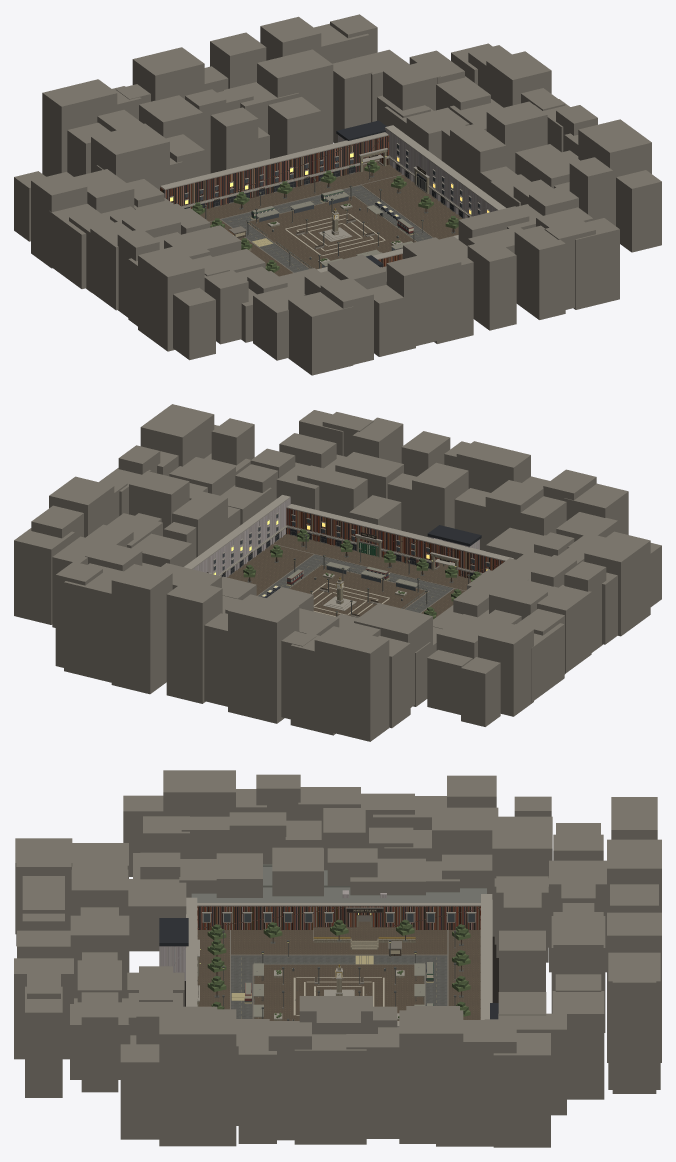
File: station-plaza.glb
3 renders of one model, top to bottom at view 1: azimuth 30°, elevation 25°; view 2: azimuth 150°, elevation 25°; view 3: azimuth 270°, elevation 25°, orthographic. The views are drawn at different scales.
Parts seen in each view (by area): view 1: bake:plain:plain:#837d72:1.00:0.00:None, bake:herringbone_pavement:paving:#f2ead4, bake:herringbone_pavement:paving:#e8dfc7, bake:brick_wall_001:brick:#7c6a58, bake:plain:plain:#a09a8e:1.00:0.00:None, bake:painted_plaster_wall:render:#b3a894, bake:asphalt_02:asphalt, bake:plain:plain:#2c2f33:1.00:0.00:None, bake:plain:plain:#5c6c46:1.00:0.00:None, bake:plain:plain:#8a8779:1.00:0.00:None, bake:plain:plain:#4a4f52:1.00:0.00:None, bake:plain:plain:#7e786d:1.00:0.00:None (+4 smaller); view 2: bake:plain:plain:#837d72:1.00:0.00:None, bake:herringbone_pavement:paving:#e8dfc7, bake:plain:plain:#a09a8e:1.00:0.00:None, bake:brick_wall_001:brick:#6f5e51, bake:herringbone_pavement:paving:#f2ead4, bake:painted_plaster_wall:render:#b3a894, bake:asphalt_02:asphalt, bake:plain:plain:#2c2f33:1.00:0.00:None, bake:plain:plain:#4a4f52:1.00:0.00:None, bake:plain:plain:#5c6c46:1.00:0.00:None, bake:plain:plain:#4d5c3c:1.00:0.00:None, bake:plain:plain:#7e786d:1.00:0.00:None (+3 smaller); view 3: bake:plain:plain:#837d72:1.00:0.00:None, bake:herringbone_pavement:paving:#e8dfc7, bake:herringbone_pavement:paving:#f2ead4, bake:plain:plain:#a09a8e:1.00:0.00:None, bake:brick_wall_001:brick:#7c6a58, bake:asphalt_02:asphalt, bake:plain:plain:#6e6f68:0.70:0.00:None, bake:plain:plain:#5c6c46:1.00:0.00:None, bake:plain:plain:#4d5c3c:1.00:0.00:None, bake:plain:plain:#7e786d:1.00:0.00:None, bake:plain:plain:#2c2f33:1.00:0.00:None, bake:plain:plain:#8a8779:1.00:0.00:None (+4 smaller).
Boxes of the visible parts, left/top/right/bottom form: bake:plain:plain:#837d72:1.00:0.00:None: left=14, top=14, right=661, bottom=375; bake:herringbone_pavement:paving:#f2ead4: left=248, top=196, right=416, bottom=269; bake:herringbone_pavement:paving:#e8dfc7: left=200, top=158, right=463, bottom=276; bake:brick_wall_001:brick:#7c6a58: left=160, top=135, right=389, bottom=208; bake:plain:plain:#a09a8e:1.00:0.00:None: left=160, top=125, right=506, bottom=272; bake:painted_plaster_wall:render:#b3a894: left=338, top=128, right=497, bottom=267; bake:asphalt_02:asphalt: left=221, top=185, right=431, bottom=272; bake:plain:plain:#2c2f33:1.00:0.00:None: left=184, top=120, right=468, bottom=267; bake:plain:plain:#5c6c46:1.00:0.00:None: left=192, top=162, right=458, bottom=272; bake:plain:plain:#8a8779:1.00:0.00:None: left=246, top=189, right=416, bottom=268; bake:plain:plain:#4a4f52:1.00:0.00:None: left=185, top=144, right=480, bottom=267; bake:plain:plain:#7e786d:1.00:0.00:None: left=206, top=161, right=462, bottom=272; bake:plain:plain:#837d72:1.00:0.00:None: left=14, top=404, right=661, bottom=741; bake:herringbone_pavement:paving:#e8dfc7: left=227, top=534, right=470, bottom=617; bake:plain:plain:#a09a8e:1.00:0.00:None: left=184, top=495, right=513, bottom=610; bake:brick_wall_001:brick:#6f5e51: left=286, top=508, right=504, bottom=577; bake:herringbone_pavement:paving:#f2ead4: left=289, top=565, right=426, bottom=616; bake:painted_plaster_wall:render:#b3a894: left=193, top=497, right=479, bottom=577; bake:asphalt_02:asphalt: left=258, top=555, right=453, bottom=612; bake:plain:plain:#2c2f33:1.00:0.00:None: left=221, top=525, right=481, bottom=598; bake:plain:plain:#4a4f52:1.00:0.00:None: left=213, top=514, right=489, bottom=597; bake:plain:plain:#5c6c46:1.00:0.00:None: left=243, top=531, right=480, bottom=619; bake:plain:plain:#4d5c3c:1.00:0.00:None: left=243, top=529, right=479, bottom=615; bake:plain:plain:#7e786d:1.00:0.00:None: left=231, top=534, right=470, bottom=617; bake:plain:plain:#837d72:1.00:0.00:None: left=14, top=770, right=661, bottom=1147; bake:herringbone_pavement:paving:#e8dfc7: left=197, top=930, right=480, bottom=1019; bake:herringbone_pavement:paving:#f2ead4: left=253, top=921, right=424, bottom=1020; bake:plain:plain:#a09a8e:1.00:0.00:None: left=186, top=894, right=492, bottom=1026; bake:brick_wall_001:brick:#7c6a58: left=197, top=906, right=480, bottom=929; bake:asphalt_02:asphalt: left=231, top=955, right=447, bottom=1018; bake:plain:plain:#6e6f68:0.70:0.00:None: left=191, top=866, right=486, bottom=902; bake:plain:plain:#5c6c46:1.00:0.00:None: left=207, top=922, right=470, bottom=1018; bake:plain:plain:#4d5c3c:1.00:0.00:None: left=210, top=919, right=468, bottom=1017; bake:plain:plain:#7e786d:1.00:0.00:None: left=230, top=930, right=455, bottom=1018; bake:plain:plain:#2c2f33:1.00:0.00:None: left=159, top=918, right=498, bottom=1020; bake:plain:plain:#8a8779:1.00:0.00:None: left=245, top=962, right=432, bottom=1020.
Size of the model in its own units: 266 by 55.34 by 255.
69 materials, 37 textured.
